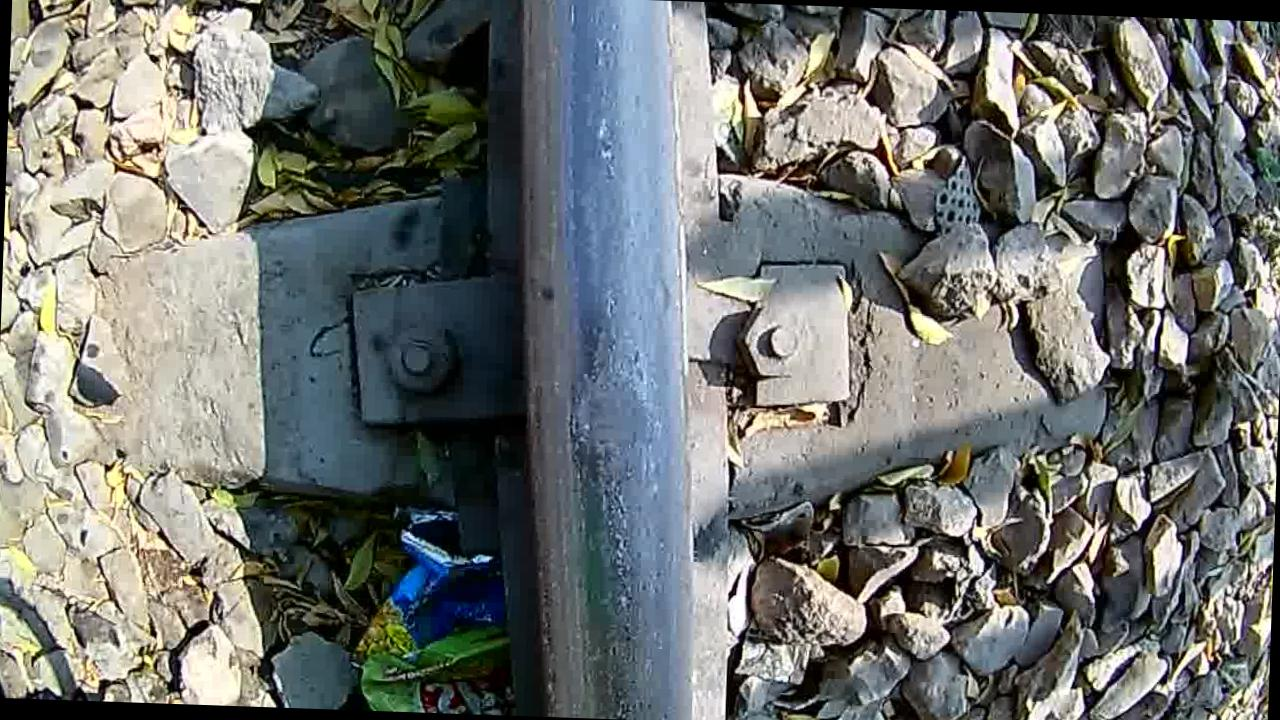bolt_missing: (504, 229, 694, 567)
